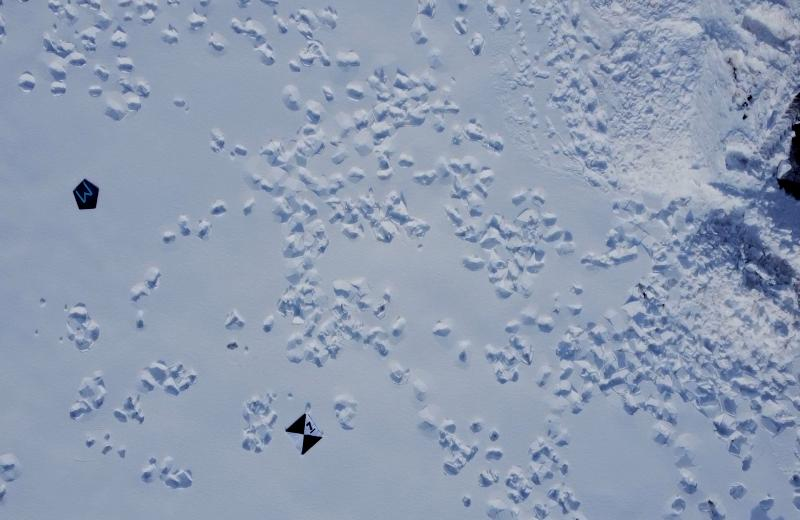Pentagon: (70, 177, 102, 213)
